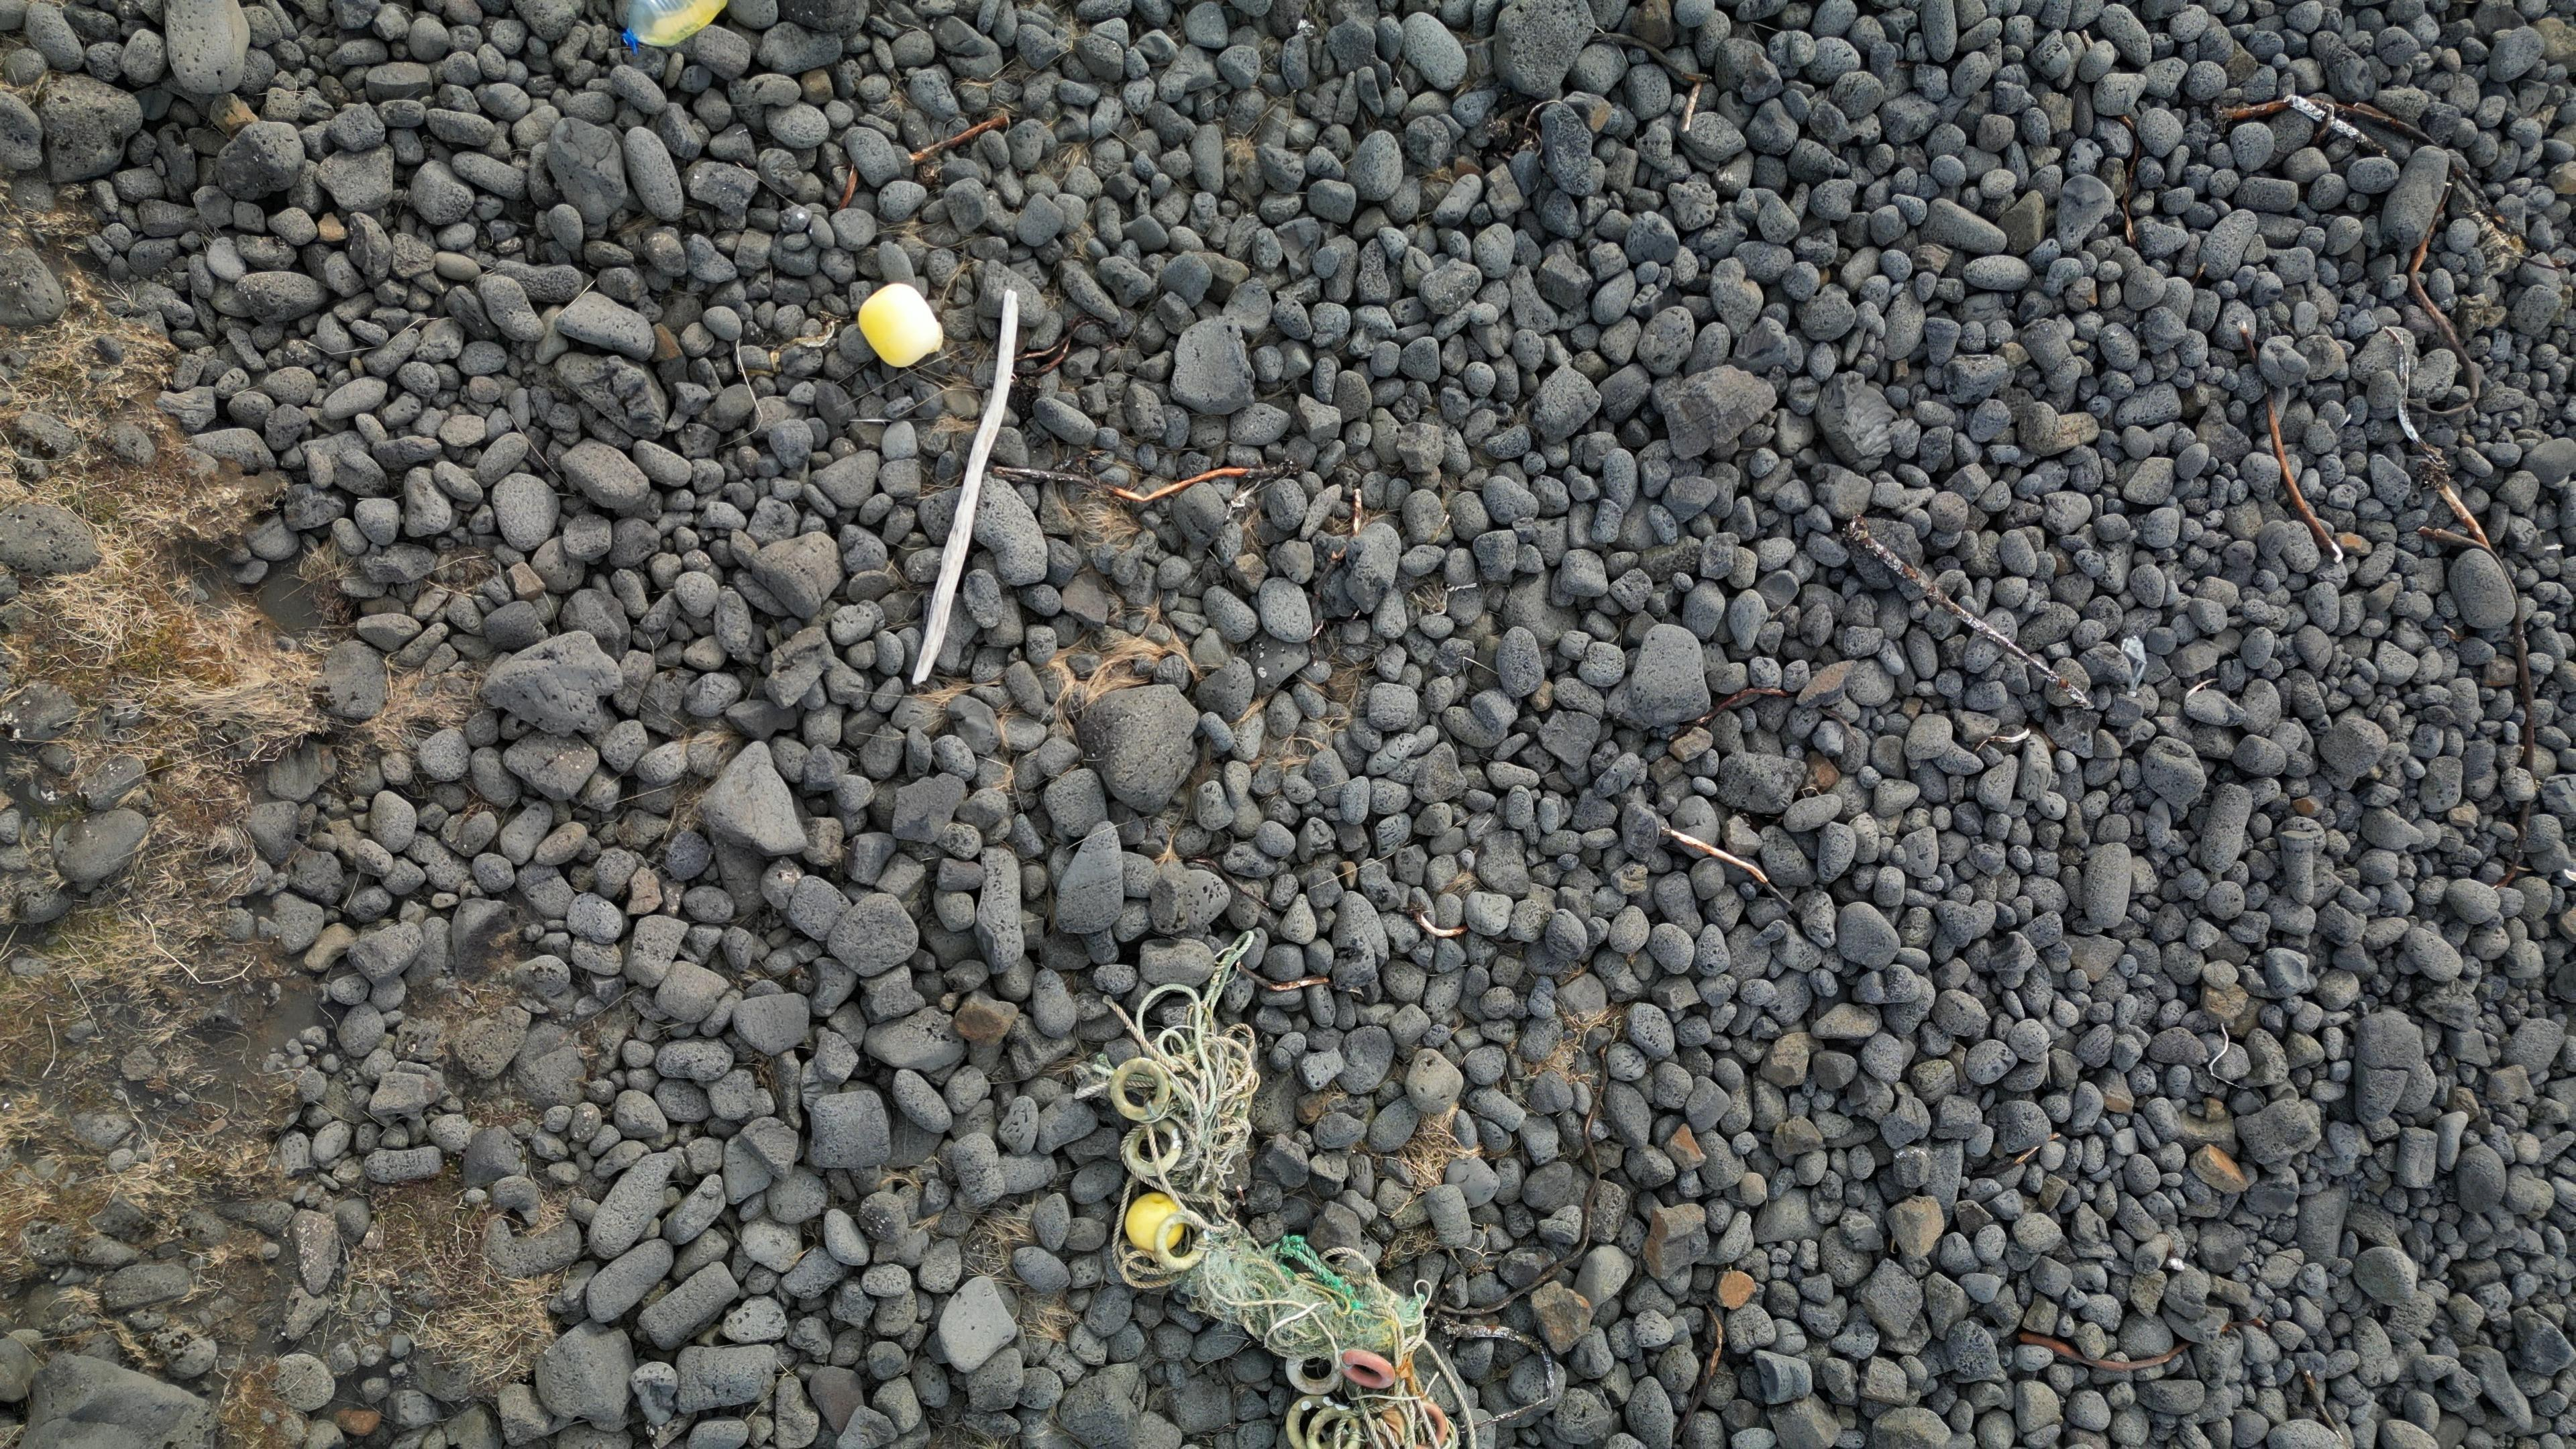trash: (1102, 966, 1468, 1449), (860, 281, 947, 368), (625, 0, 725, 50)
